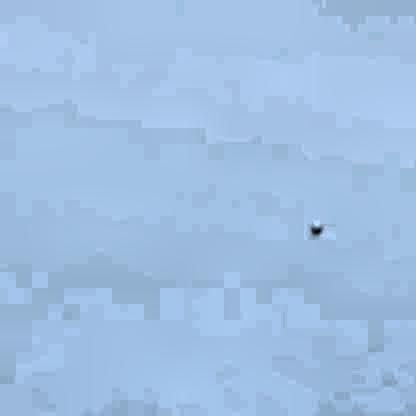golfball: (307, 215, 320, 231)
